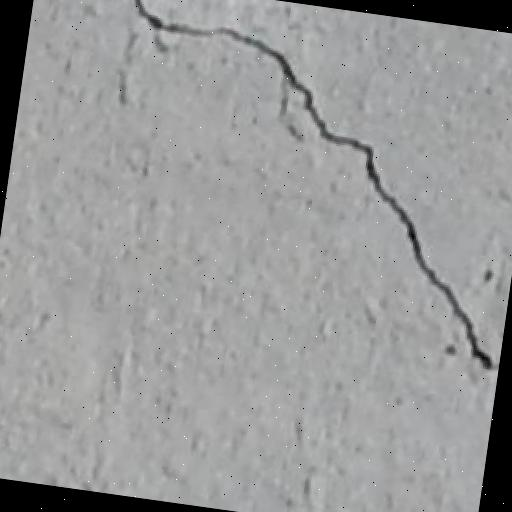spalling: (116, 0, 498, 378)
